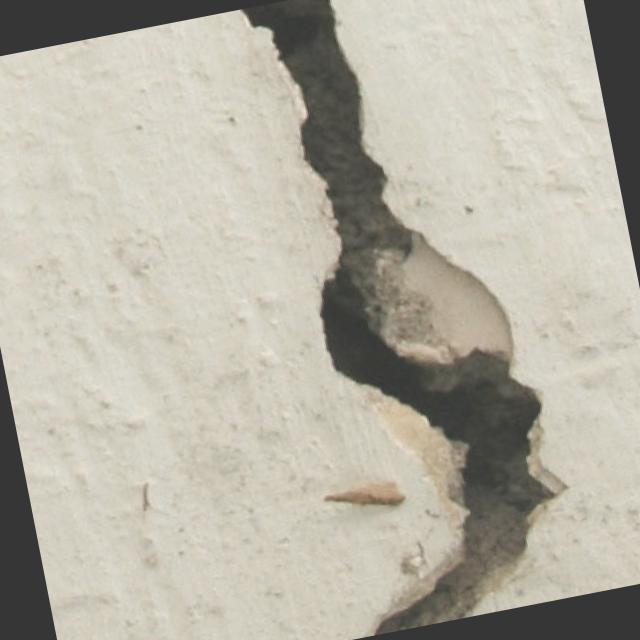spall: (230, 0, 593, 638)
